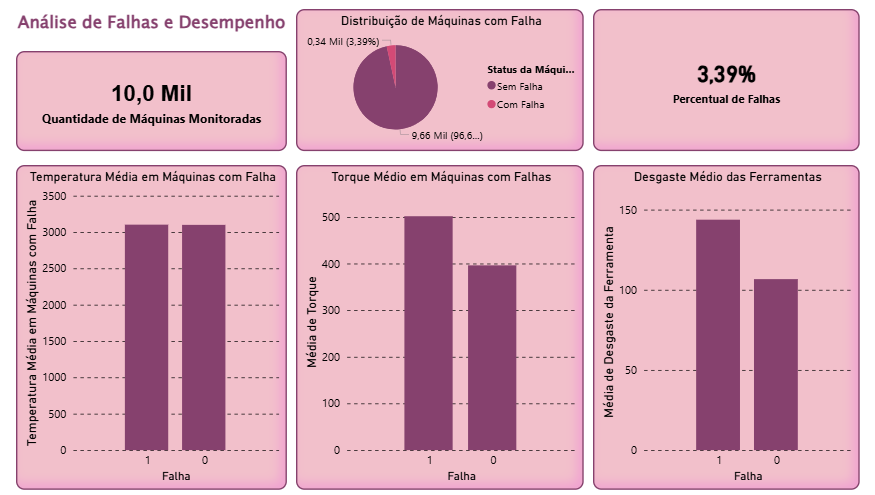

What the dashboard file says about the page in this screenshot:
{"tool":"powerbi","page":{"name":"Análise de Falhas","canvas":[1280,720],"ordinal":1},"visuals":[{"type":"clusteredColumnChart","title":"Torque Médio em Máquinas com Falhas","fields":{"Category":["manutencao_tratada.machine_failure"],"Y":["Avg(manutencao_tratada.torque)"]},"box":[442.9,244.3,411.4,464.3],"z":0},{"type":"clusteredColumnChart","title":"Temperatura Média em Máquinas com Falha","fields":{"Category":["manutencao_tratada.machine_failure"],"Y":["Avg(manutencao_tratada.process_temperature)"]},"box":[42.9,244.3,387.1,464.3],"z":1000},{"type":"clusteredColumnChart","title":"Desgaste Médio das Ferramentas","fields":{"Category":["manutencao_tratada.machine_failure"],"Y":["Avg(manutencao_tratada.tool_wear)"]},"box":[867.1,244.3,381.4,464.3],"z":2000},{"type":"donutChart","title":"Distribuição de Máquinas com Falha","fields":{"Y":["CountNonNull(manutencao_tratada.machine_failure)"],"Category":["manutencao_tratada.Status da Máquina"]},"box":[442.9,21.4,411.4,202.9],"z":3000},{"type":"card","fields":{"Values":["CountNonNull(manutencao_tratada.machine_failure)"]},"box":[42.9,81.4,387.1,142.9],"z":4000},{"type":"card","fields":{"Values":["manutencao_tratada.Taxa de Falha"]},"box":[867.1,21.4,381.4,202.9],"z":5000},{"type":"textbox","box":[0,0,442.9,92.9],"z":6000}]}

Visuals, with their boxes in screenshot pixels (x1, y1, x2, y2), scaled from the page's 1280x720 canvas onto the 875x495 screenshot:
"Torque Médio em Máquinas com Falhas" clusteredColumnChart: {"x1": 303, "y1": 168, "x2": 584, "y2": 487}
"Temperatura Média em Máquinas com Falha" clusteredColumnChart: {"x1": 29, "y1": 168, "x2": 294, "y2": 487}
"Desgaste Médio das Ferramentas" clusteredColumnChart: {"x1": 593, "y1": 168, "x2": 853, "y2": 487}
"Distribuição de Máquinas com Falha" donutChart: {"x1": 303, "y1": 15, "x2": 584, "y2": 154}
card - CountNonNull(manutencao_tratada.machine_failure): {"x1": 29, "y1": 56, "x2": 294, "y2": 154}
card - manutencao_tratada.Taxa de Falha: {"x1": 593, "y1": 15, "x2": 853, "y2": 154}
textbox: {"x1": 0, "y1": 0, "x2": 303, "y2": 64}
